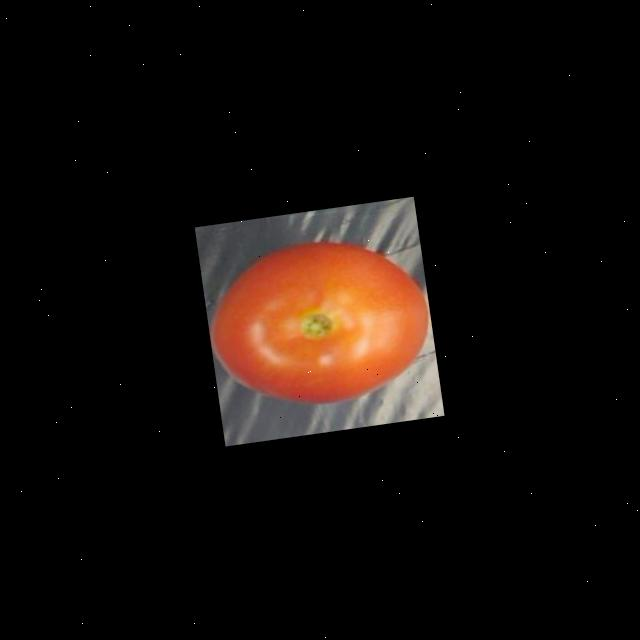tomato: (198, 218, 442, 420)
